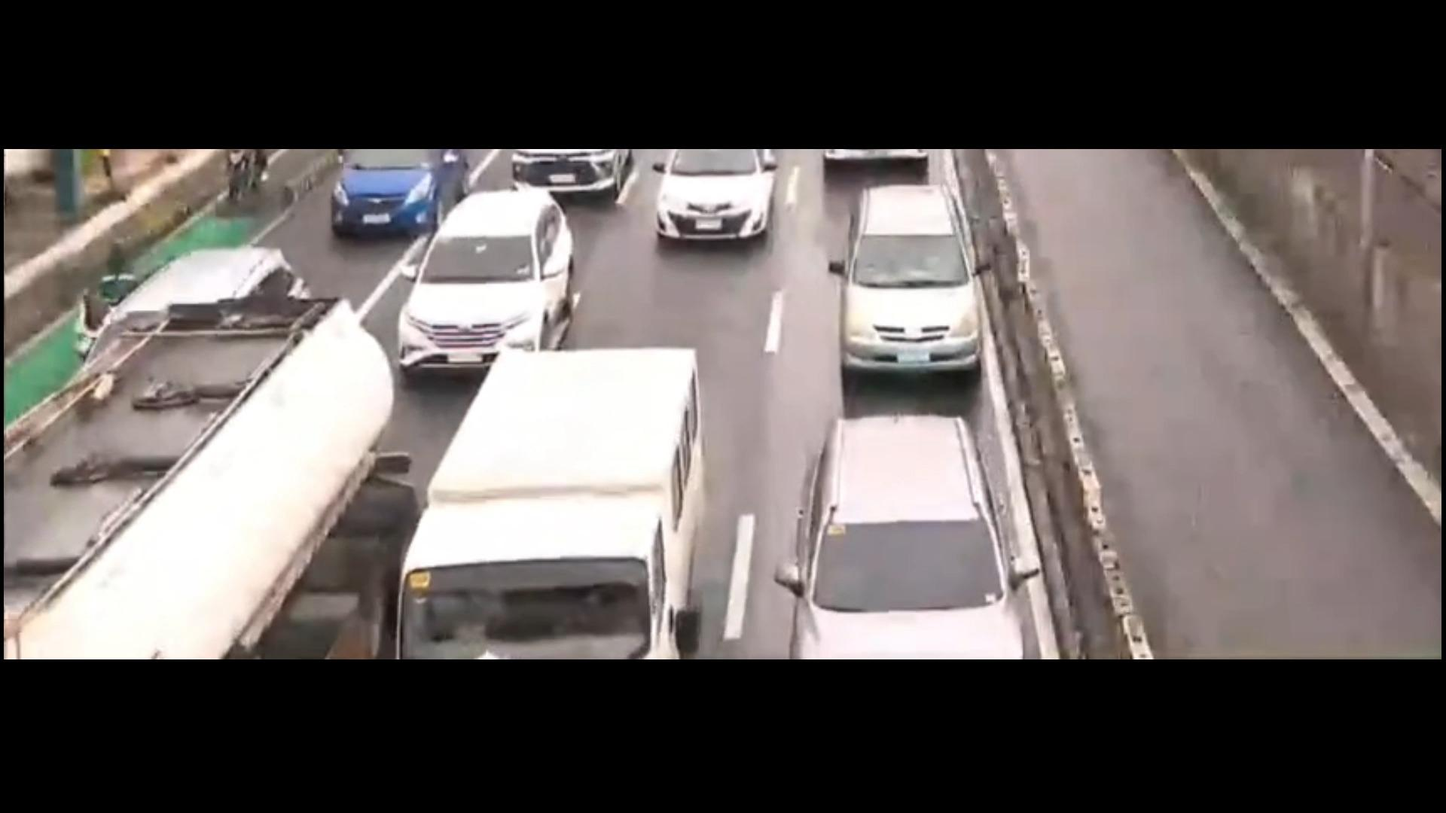Motorcycle: (63, 245, 145, 337), (213, 138, 281, 208)
Multicab: (376, 332, 714, 658)
SUV: (767, 399, 1063, 661), (393, 192, 595, 380), (823, 175, 987, 390), (67, 239, 315, 360), (654, 155, 787, 249)
Sedan: (321, 151, 467, 237)
Truck: (0, 249, 439, 661)
